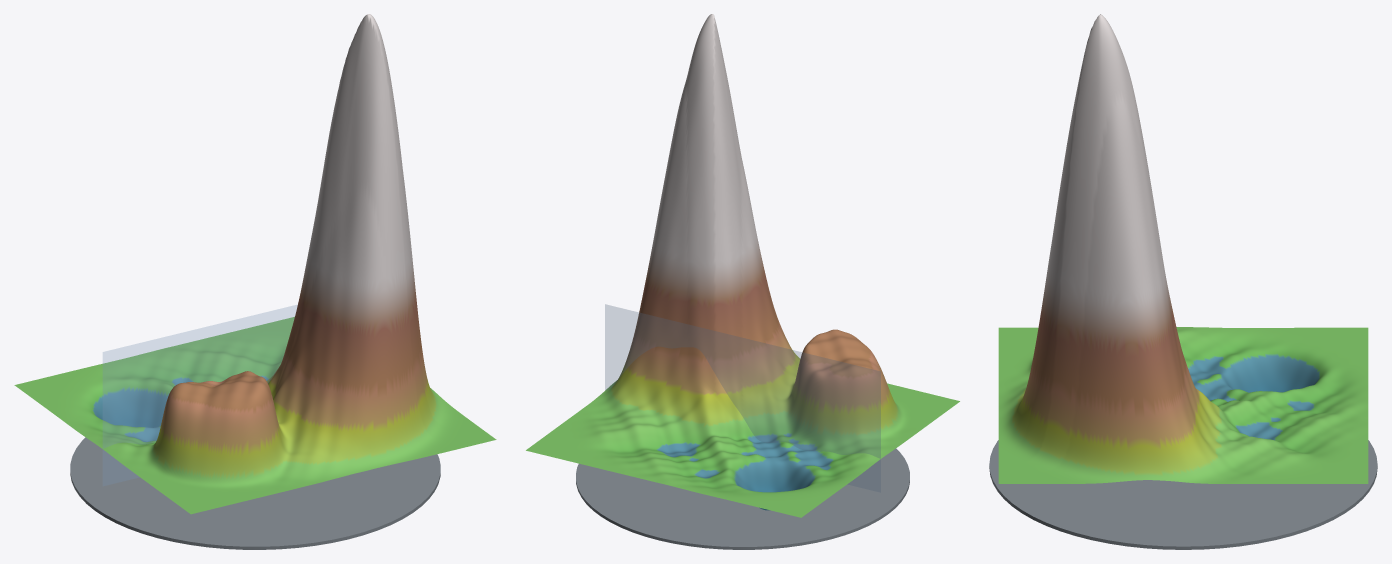
File: terrain-topography.glb
The picture shows the model from 3 angles, left to right: view 1: azimuth 30°, elevation 25°; view 2: azimuth 150°, elevation 25°; view 3: azimuth 270°, elevation 25°; orthographic projection. The views are drawn at different scales.
Visible parts, largest first — view 1: TerrainSurface, BasePlatform, CrossSection; view 2: TerrainSurface, CrossSection, BasePlatform; view 3: TerrainSurface, BasePlatform.
Boxes of the visible parts, bbox=[...] form: TerrainSurface: bbox=[14, 14, 496, 514]; BasePlatform: bbox=[70, 437, 440, 549]; CrossSection: bbox=[103, 305, 297, 485]; TerrainSurface: bbox=[526, 14, 959, 517]; CrossSection: bbox=[605, 304, 880, 492]; BasePlatform: bbox=[576, 448, 909, 549]; TerrainSurface: bbox=[998, 14, 1368, 483]; BasePlatform: bbox=[989, 440, 1377, 549].
Size of the model in its own units: 4.2 by 5.86 by 4.2.
